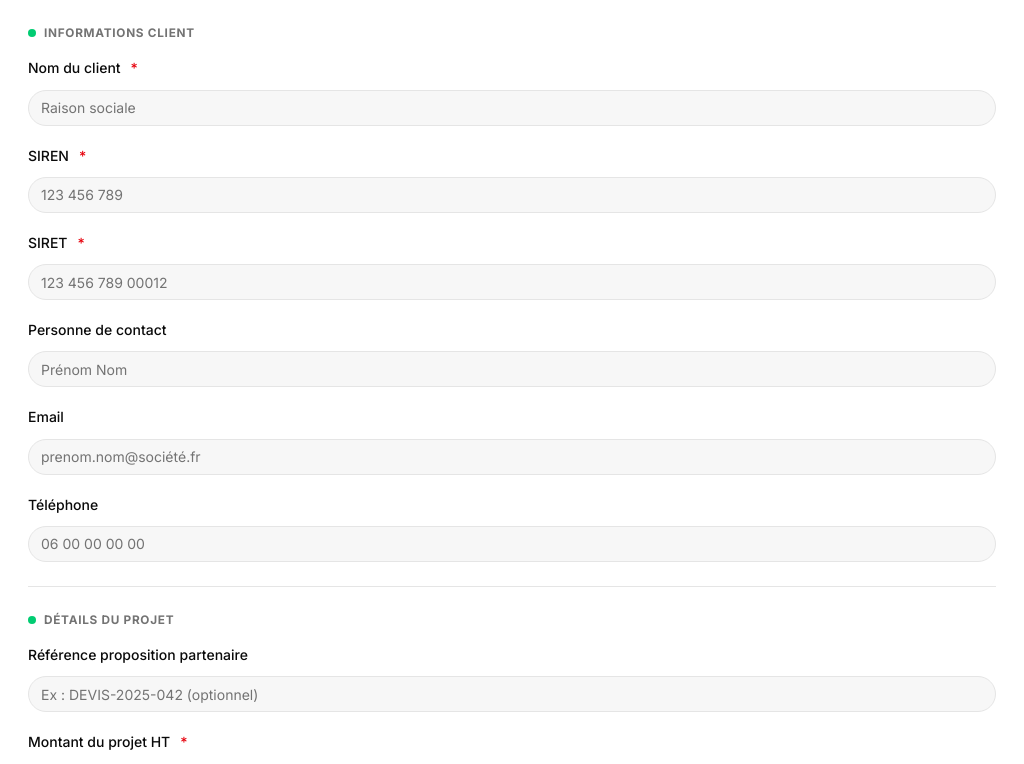
Test: Phase 42 — clientSiret (FIELD-01 / D-01..D-04) › the prefilled SIRET stays editable — typing replaces the value
Type "123456789" into the field labelled "SIREN *".
click(512, 195); type("123456789")  # box [28,177,996,213]
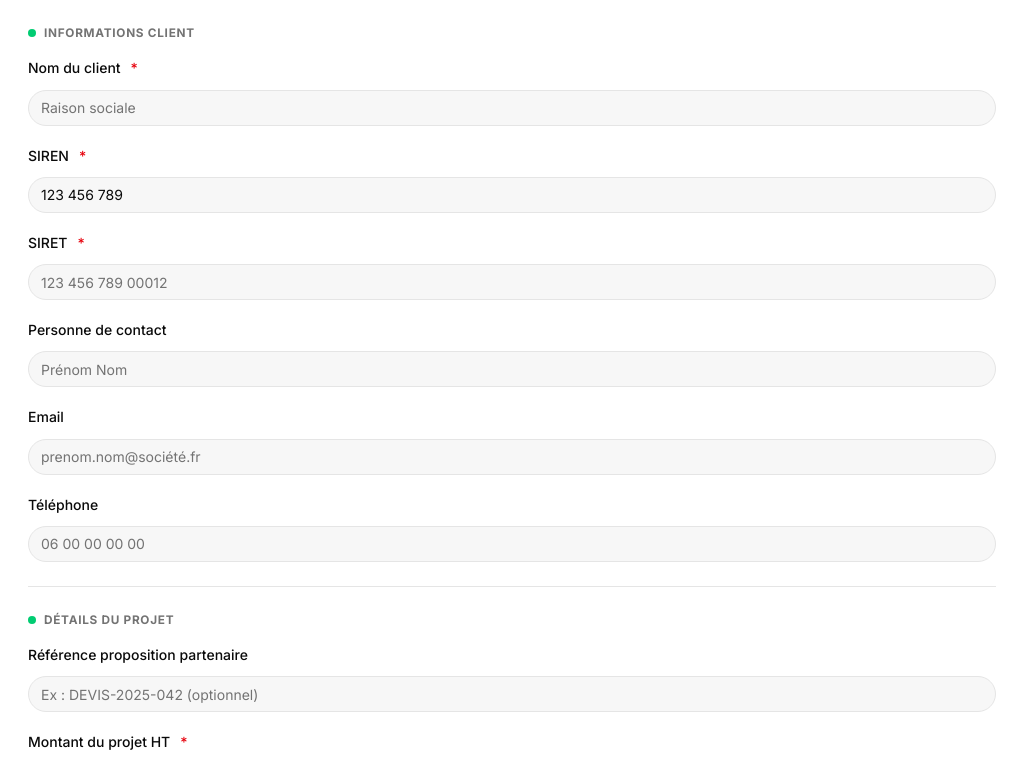
Leave the field labelled "SIREN *", box [28,177,996,213]
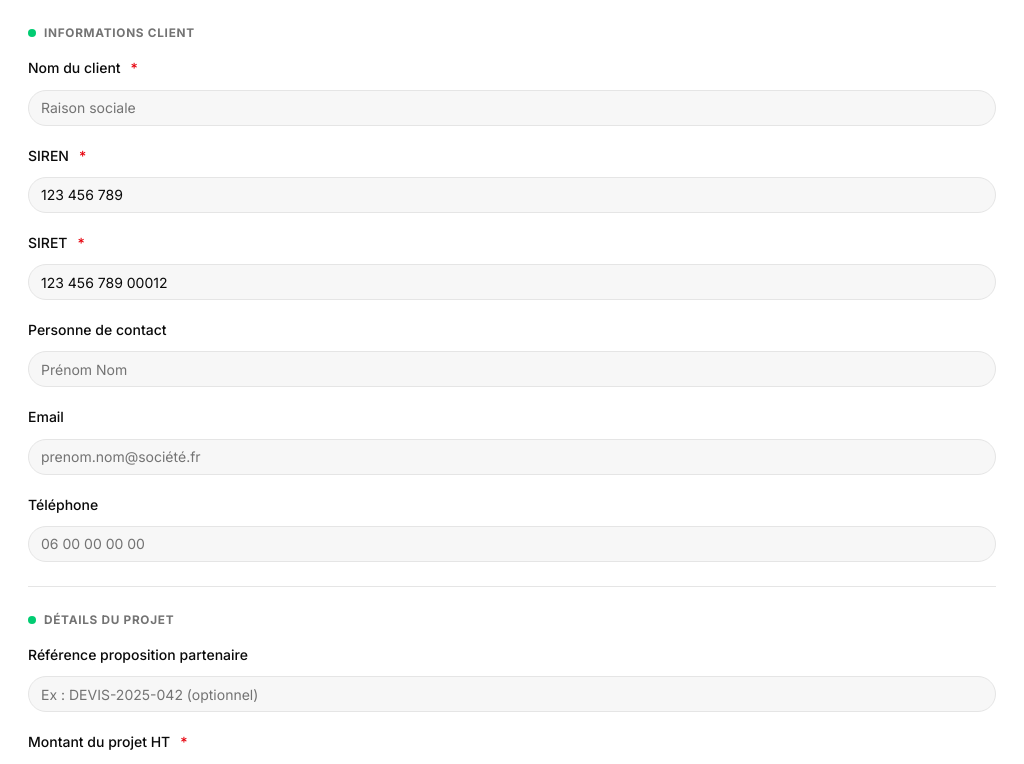
Result: the field labelled "SIRET *" holds "123 456 789 00012"
Type "99988877700099" into the field labelled "SIRET *".
click(512, 282); type("99988877700099")  # box [28,264,996,300]
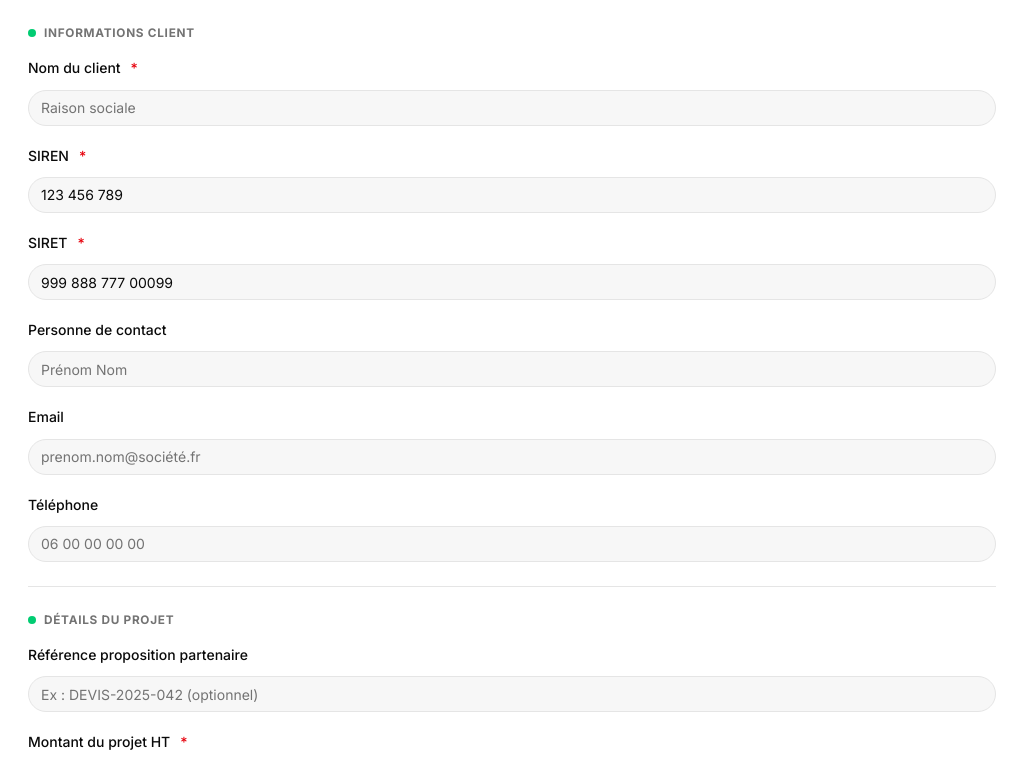
Result: the field labelled "SIRET *" holds "999 888 777 00099" at [28,264,996,300]
